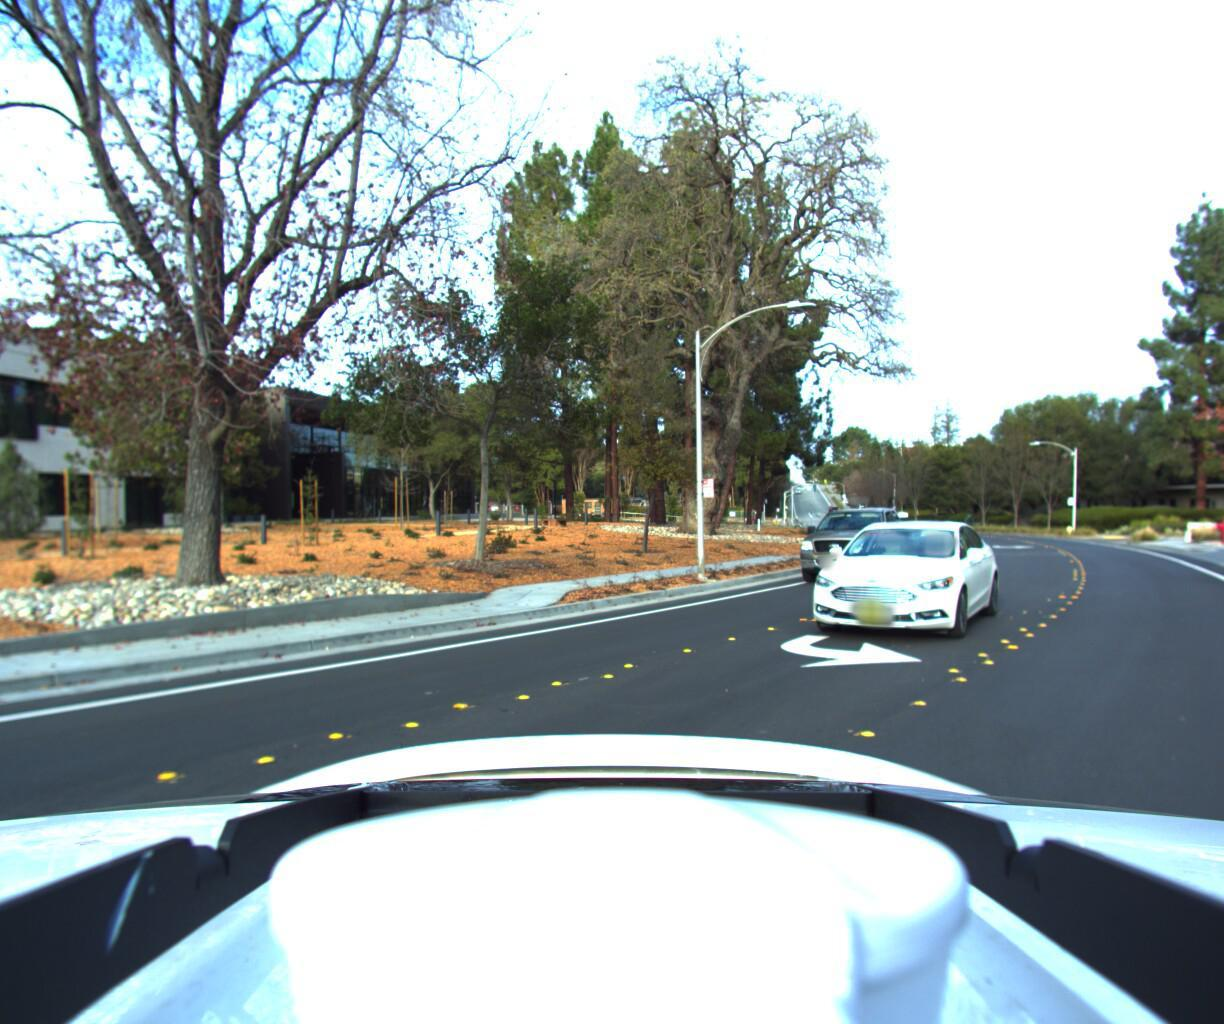car: (772, 513, 1007, 664), (766, 499, 913, 591)
